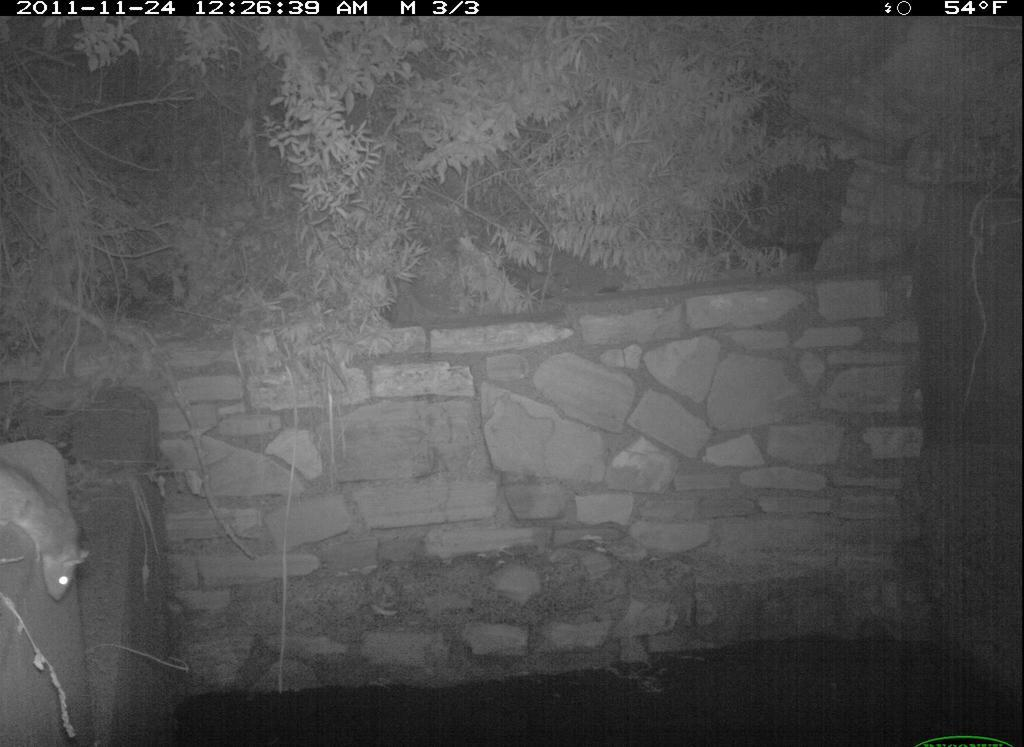rodent: (3, 454, 104, 615)
